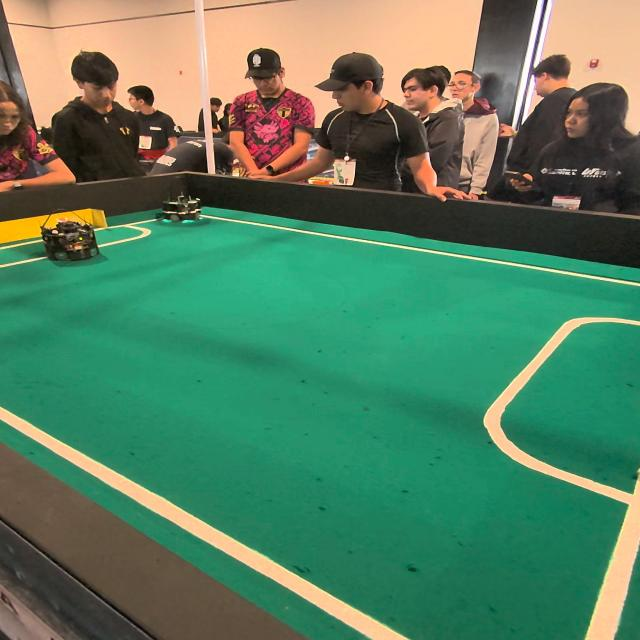Robot: (38, 205, 102, 265), (154, 175, 202, 233)
